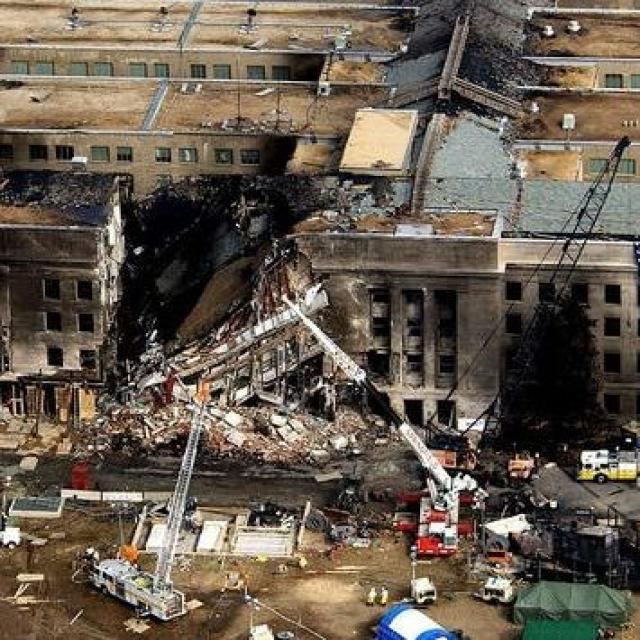collapsed_building: (151, 197, 494, 472), (0, 76, 366, 207)
